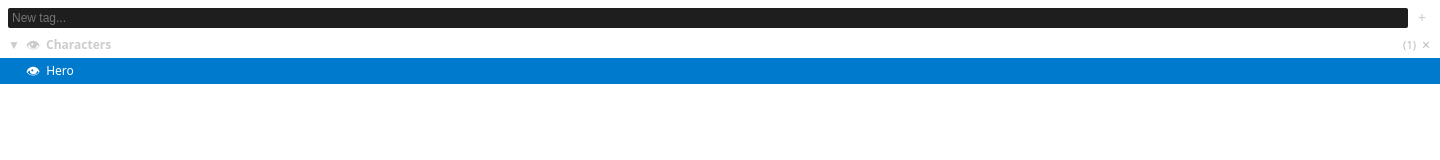
Scenario: TagsTabContent › double-clicking layer row starts rename with input
The image size is (1440, 160).
Double-click the text "Hero" at (60, 71), box [46, 62, 74, 80]
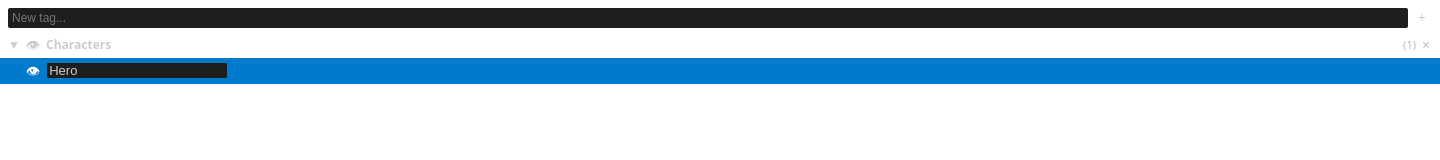
Expected: the field with test id "tag-layer-rename-input-l1" is shown, [46, 62, 228, 79]
